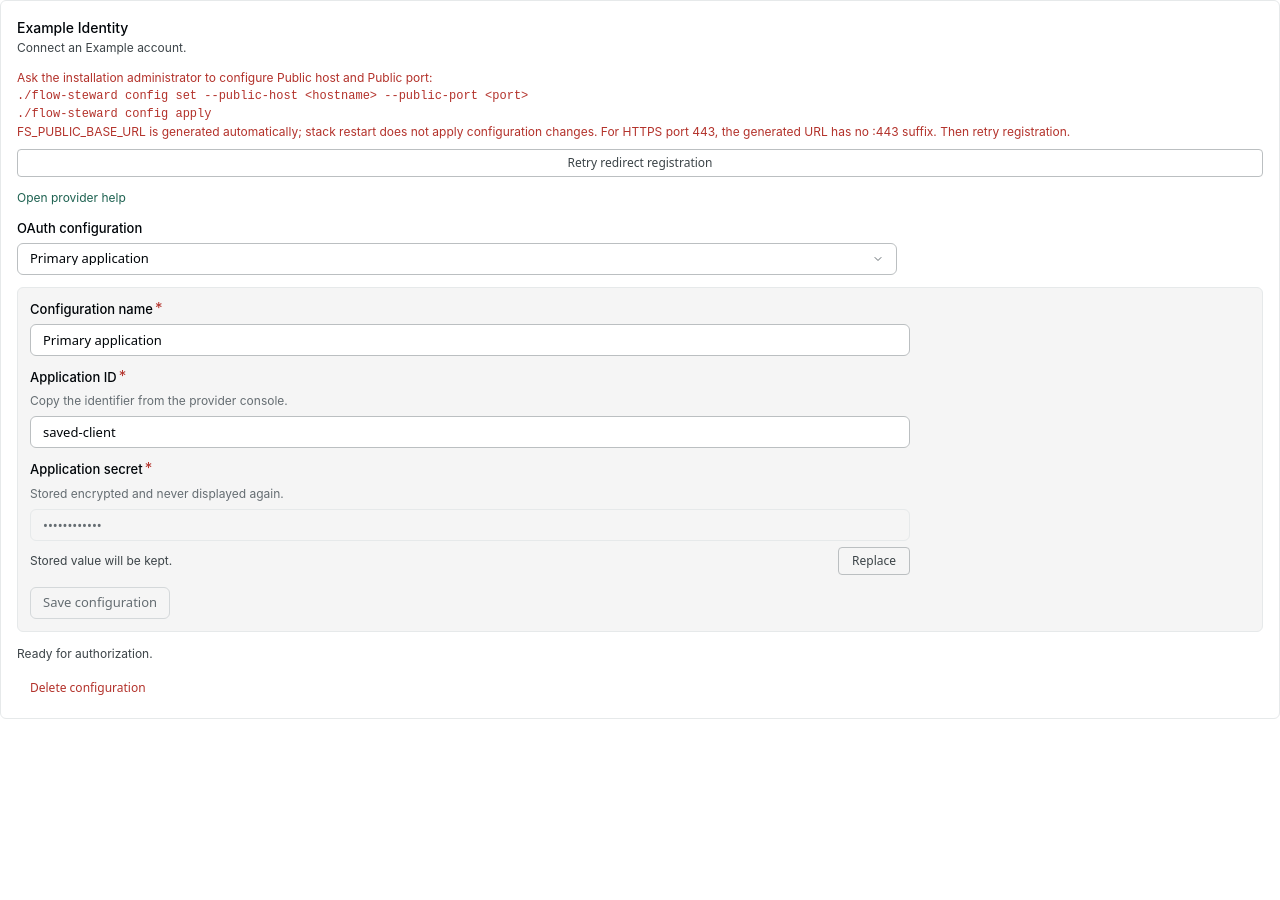
Test: ExtensionOAuthSetup › offers a safe retry when redirect URI registration fails
The width and height of the screenshot is (1280, 900).
Check: the message shows "Public host", box [17,70,432,85]
Check: the message shows "Public port", box [17,70,432,85]
What coordinates should you click on to do the following:
click the button "Retry redirect registration"
I would click on:
 (640, 163)
Its box is [17,149,1263,177].
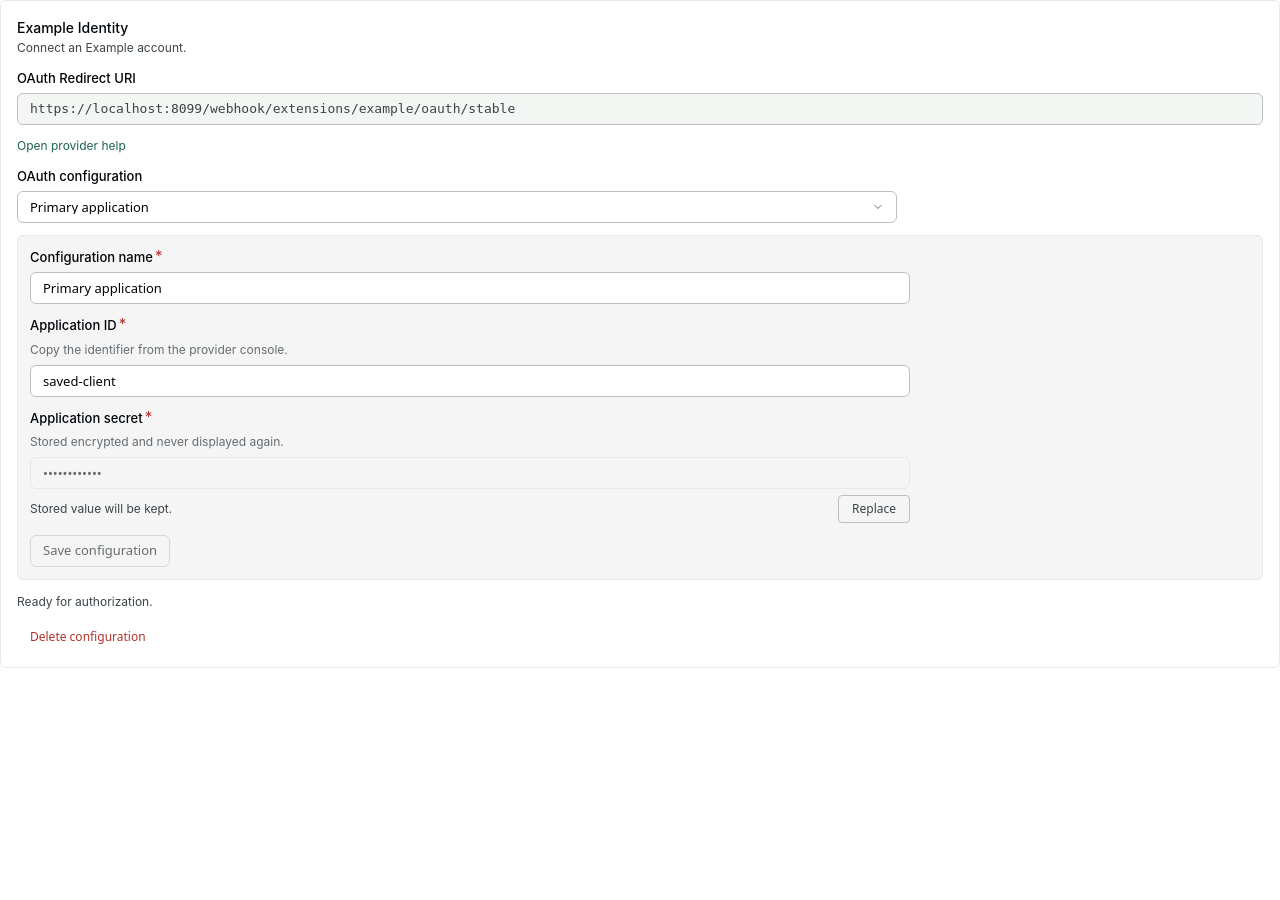
Check: the field labelled "OAuth Redirect URI" holds "https://localhost:8099/webhook/extensions/example/oauth/stable", box [17,93,1263,125]
